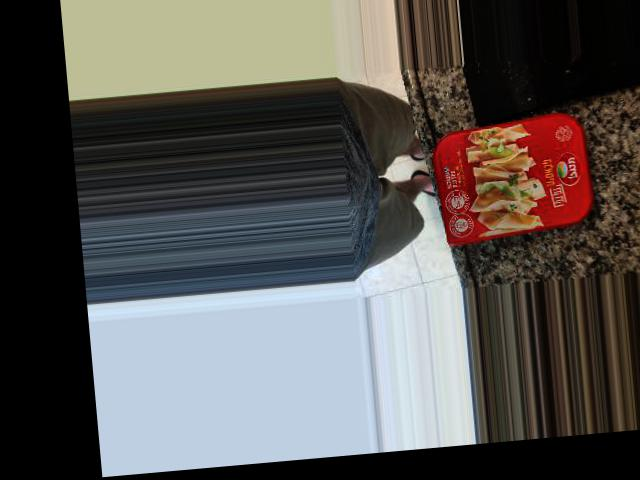cheese: (396, 96, 564, 234)
